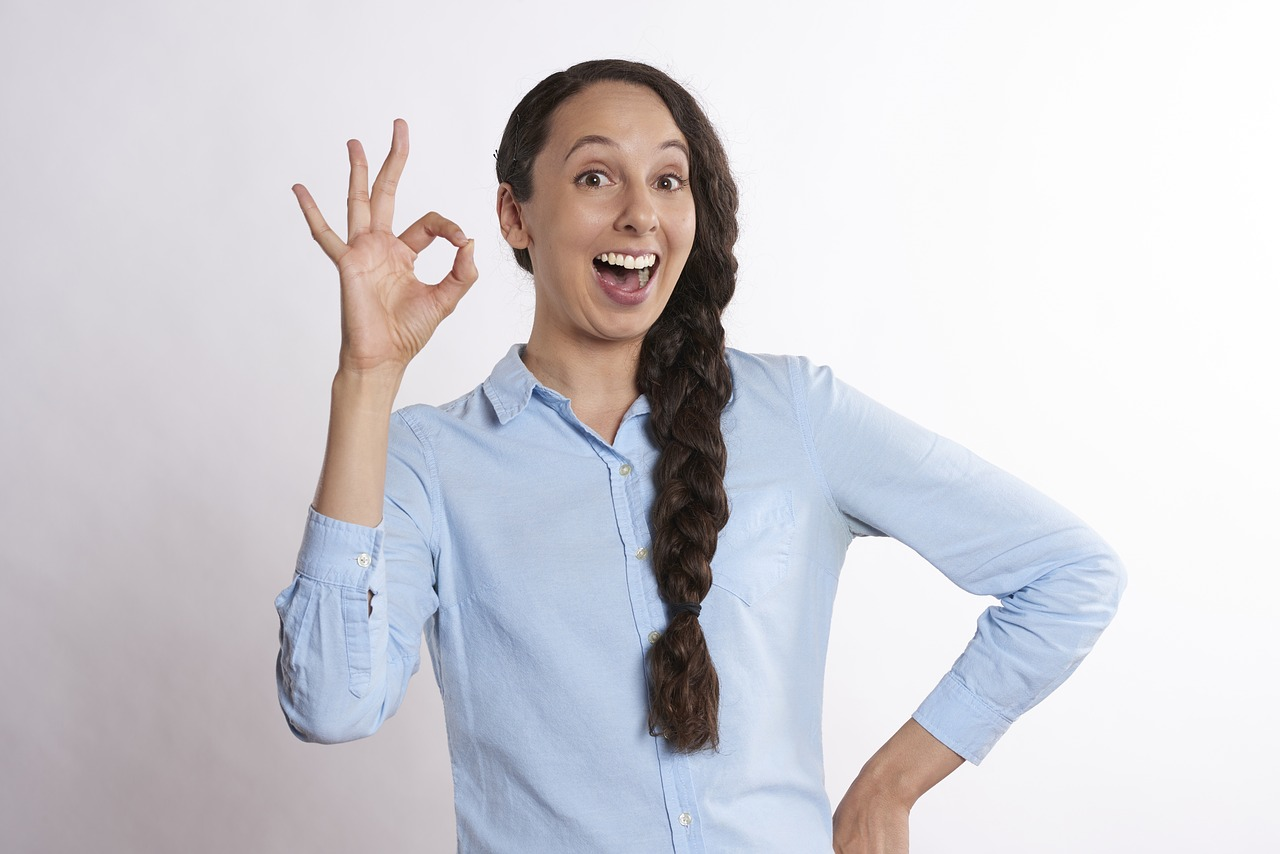oksign: (296, 123, 477, 355)
